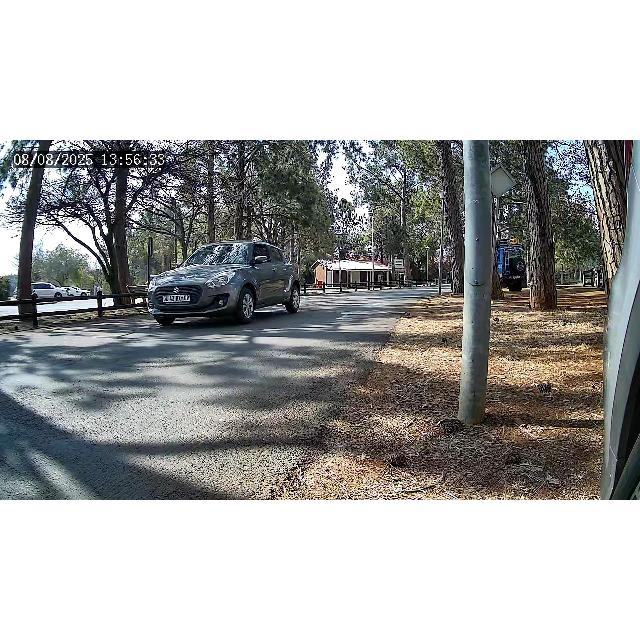car: (146, 240, 302, 328)
plate: (161, 294, 191, 302)
